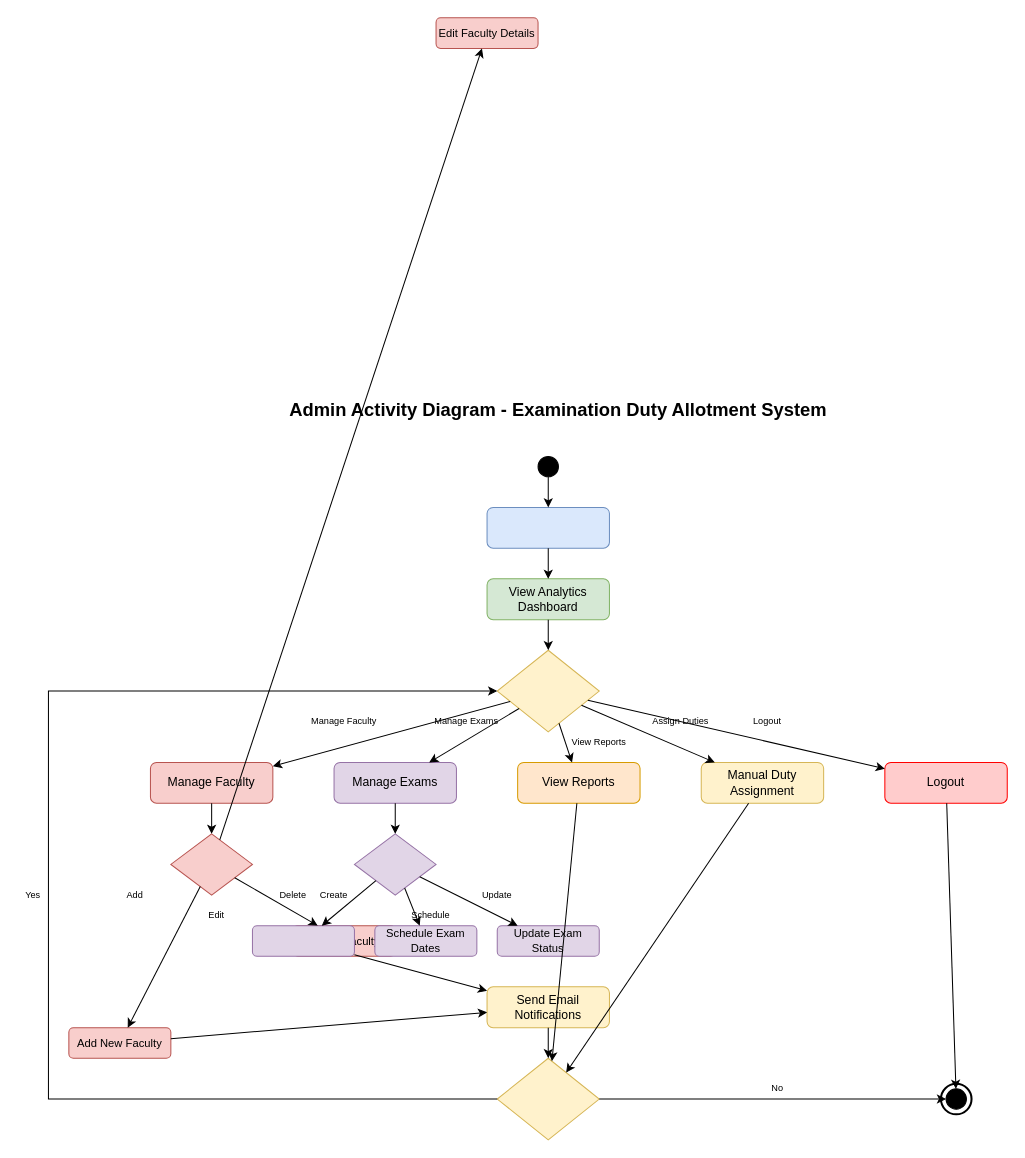
Image size: 1025x1158. Some labels were removed from this diagram. Each missing label, with the centre of its shape:
"Choose Action" belongs at [547,690].
"Continue Working?" belongs at [547,1098].
"Create New Exam" belongs at [302,940].
"Exam Action?" belongs at [394,864].
"Faculty Action?" belongs at [211,864].
"Login to System" belongs at [547,527].
